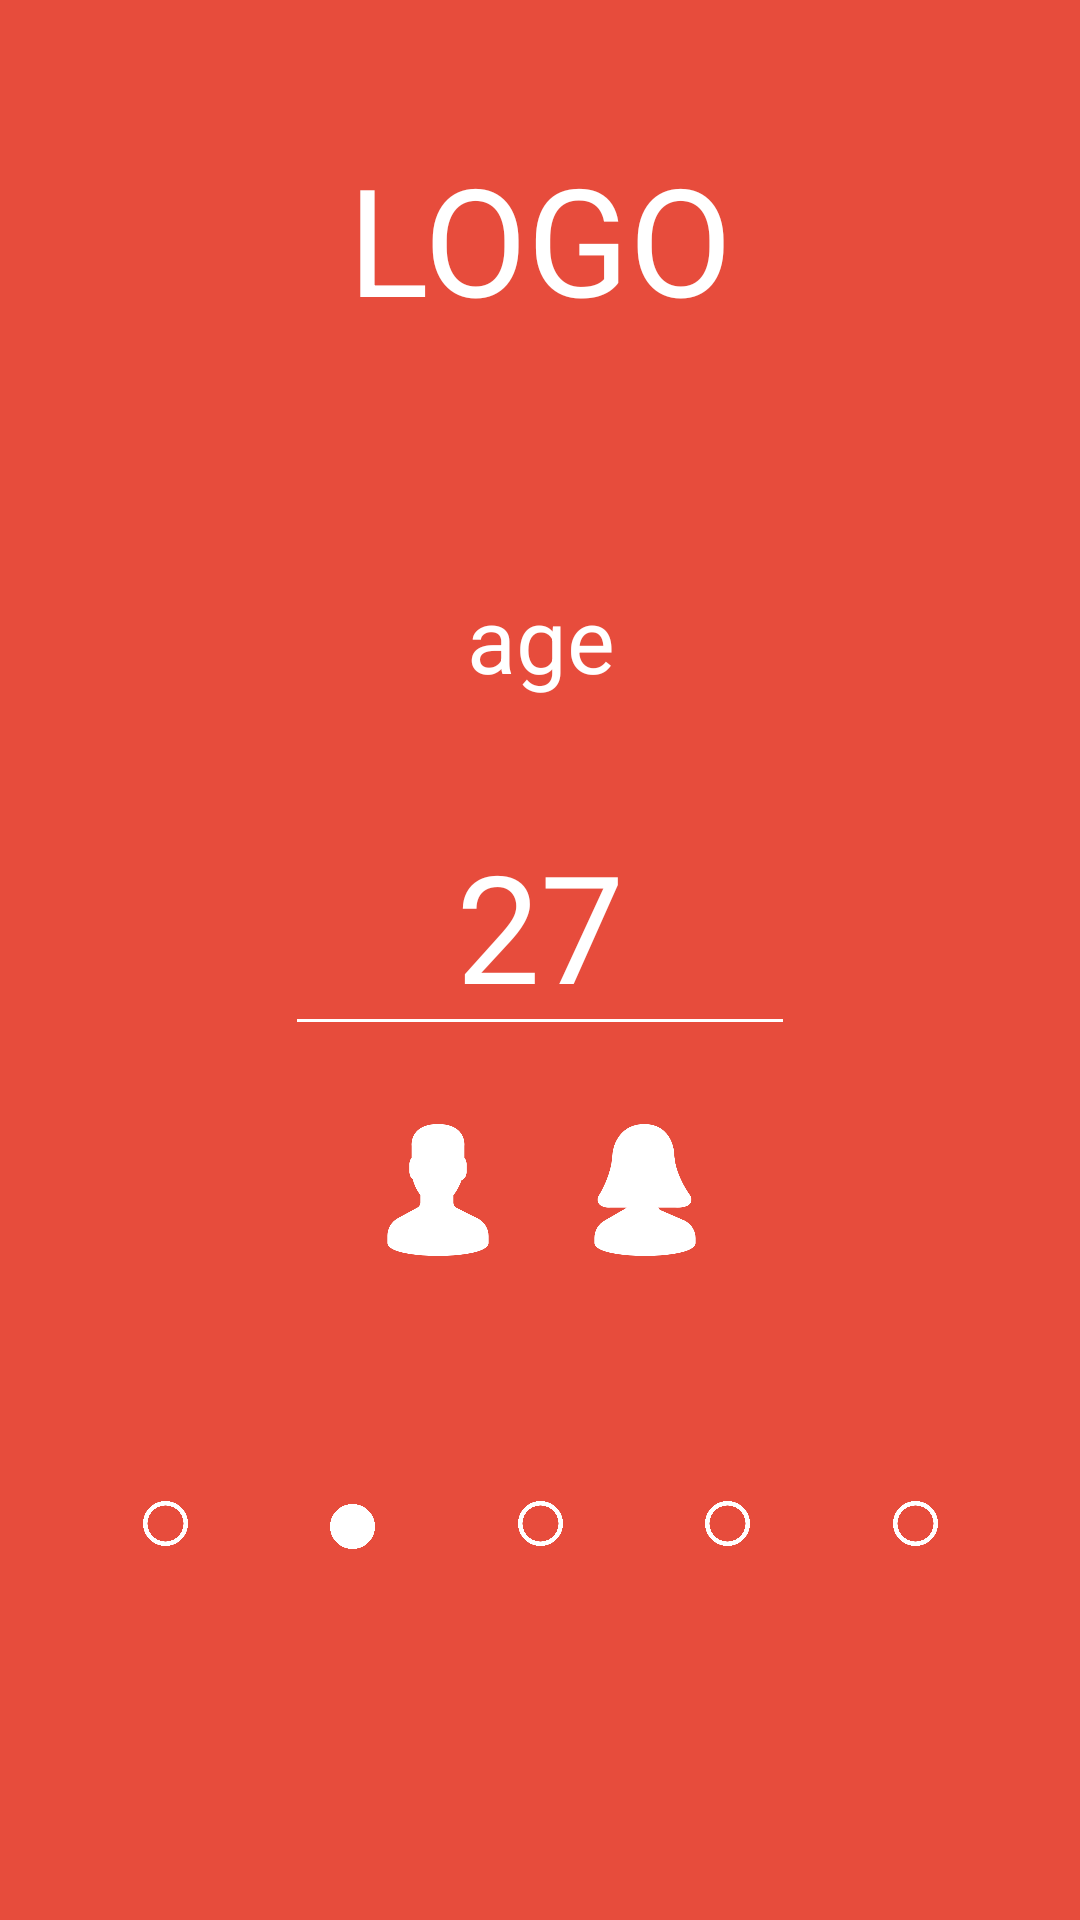

Locate icon controls on the screen. Image size 1080w x 1920h, boxes as {"left": x1, "top": y1, "right": x2, "bottom": y2}.
user: {"left": 387, "top": 1124, "right": 489, "bottom": 1256}, {"left": 594, "top": 1124, "right": 696, "bottom": 1256}
